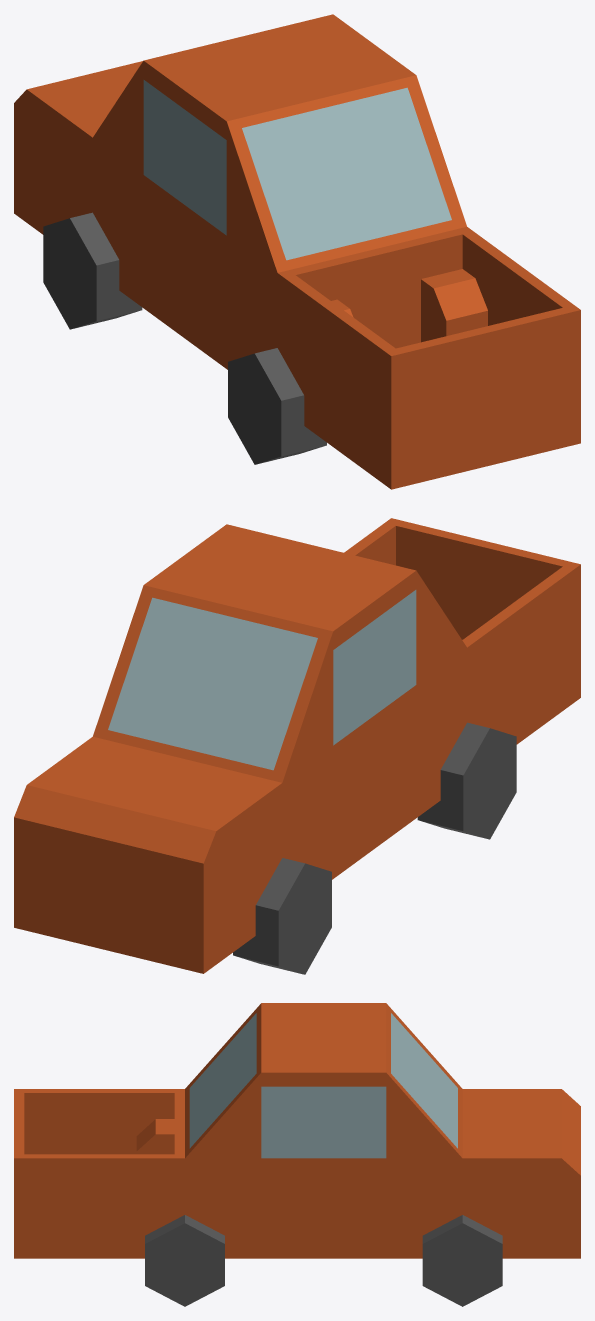
Rendered from tarck.fbx.
3 views of the same model, one above another, from view 1: azimuth 30°, elevation 25°; view 2: azimuth 150°, elevation 25°; view 3: azimuth 270°, elevation 25° (orthographic). The views are drawn at different scales.
Parts seen in each view (by area): view 1: pCube1, pCylinder2, pCylinder1; view 2: pCube1, pCylinder1, pCylinder2; view 3: pCube1, pCylinder3, pCylinder4.
Boxes of the visible parts, x1=… form: pCube1: x1=14, y1=14, x2=580, y2=489; pCylinder2: x1=43, y1=212, x2=142, y2=329; pCylinder1: x1=228, y1=348, x2=326, y2=464; pCube1: x1=14, y1=518, x2=580, y2=973; pCylinder1: x1=417, y1=722, x2=516, y2=839; pCylinder2: x1=233, y1=858, x2=331, y2=974; pCube1: x1=14, y1=1003, x2=580, y2=1258; pCylinder3: x1=422, y1=1215, x2=502, y2=1306; pCylinder4: x1=145, y1=1215, x2=224, y2=1306.
Size of the model in its own units: 6.21 by 7.59 by 17.25.
